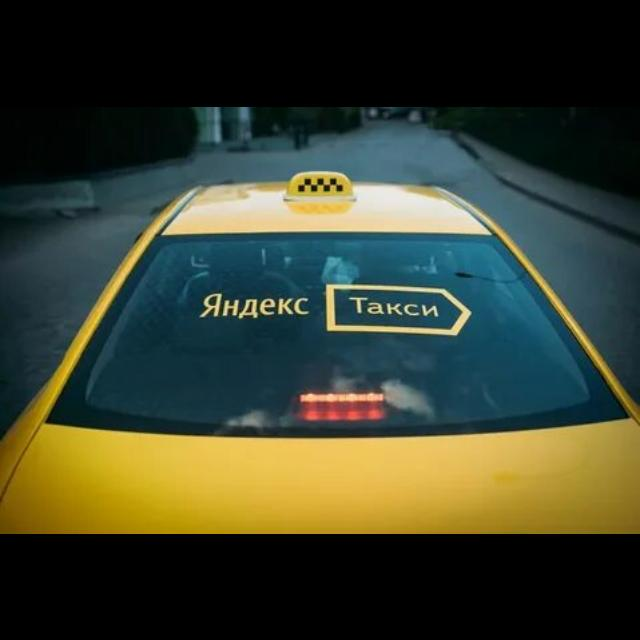taxi: (1, 171, 639, 534)
